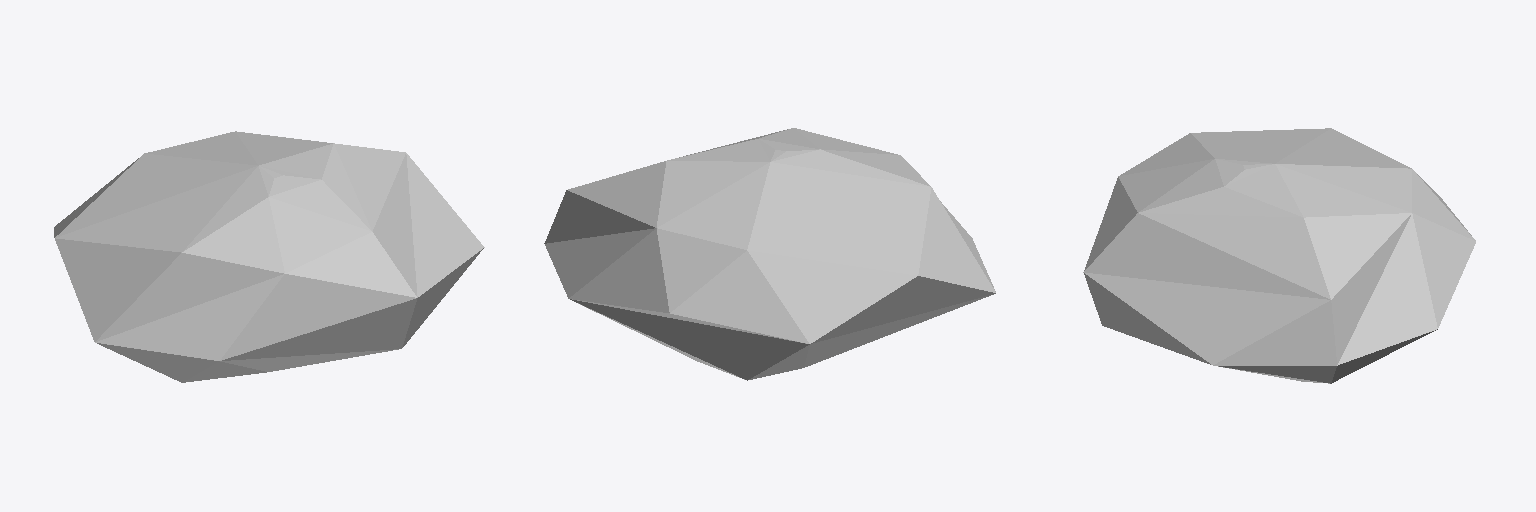
Rendered from mineral2.obj.
The picture shows the model from 3 angles: view 1: azimuth 30°, elevation 25°; view 2: azimuth 150°, elevation 25°; view 3: azimuth 270°, elevation 25°; orthographic projection.
Parts seen in each view (by area): view 1: pSphere1; view 2: pSphere1; view 3: pSphere1.
Part boxes in pixels (x1,y1,x2,y2): pSphere1: (54,131,484,382); pSphere1: (544,128,995,380); pSphere1: (1083,128,1475,383).
Size of the model in its own units: 1.91 by 0.8624 by 1.67.